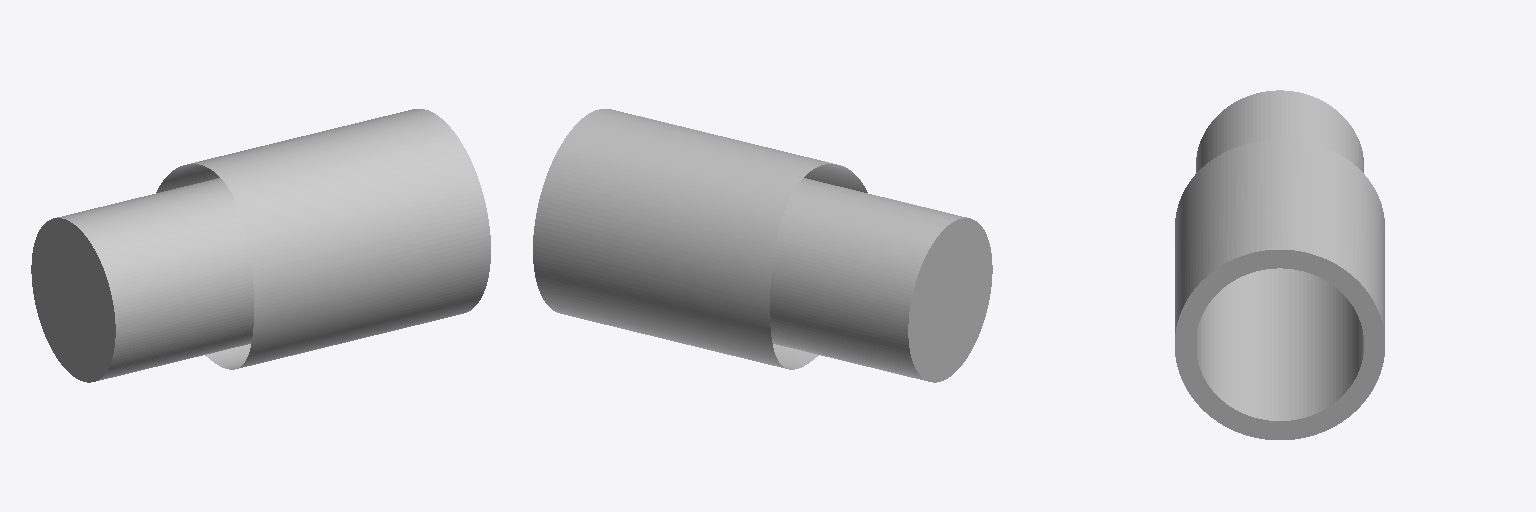
The model's file is dryer_inlet_pipe.obj.
3 renders of one model, left to right at view 1: azimuth 30°, elevation 25°; view 2: azimuth 150°, elevation 25°; view 3: azimuth 270°, elevation 25°, orthographic.
Parts seen in each view (by area): view 1: obj1; view 2: obj1; view 3: obj1.
Part boxes in pixels (x1,y1,x2,y2): obj1: (31, 109, 490, 382); obj1: (533, 109, 992, 382); obj1: (1175, 90, 1384, 439).
Size of the model in its own units: 2 by 1 by 1.